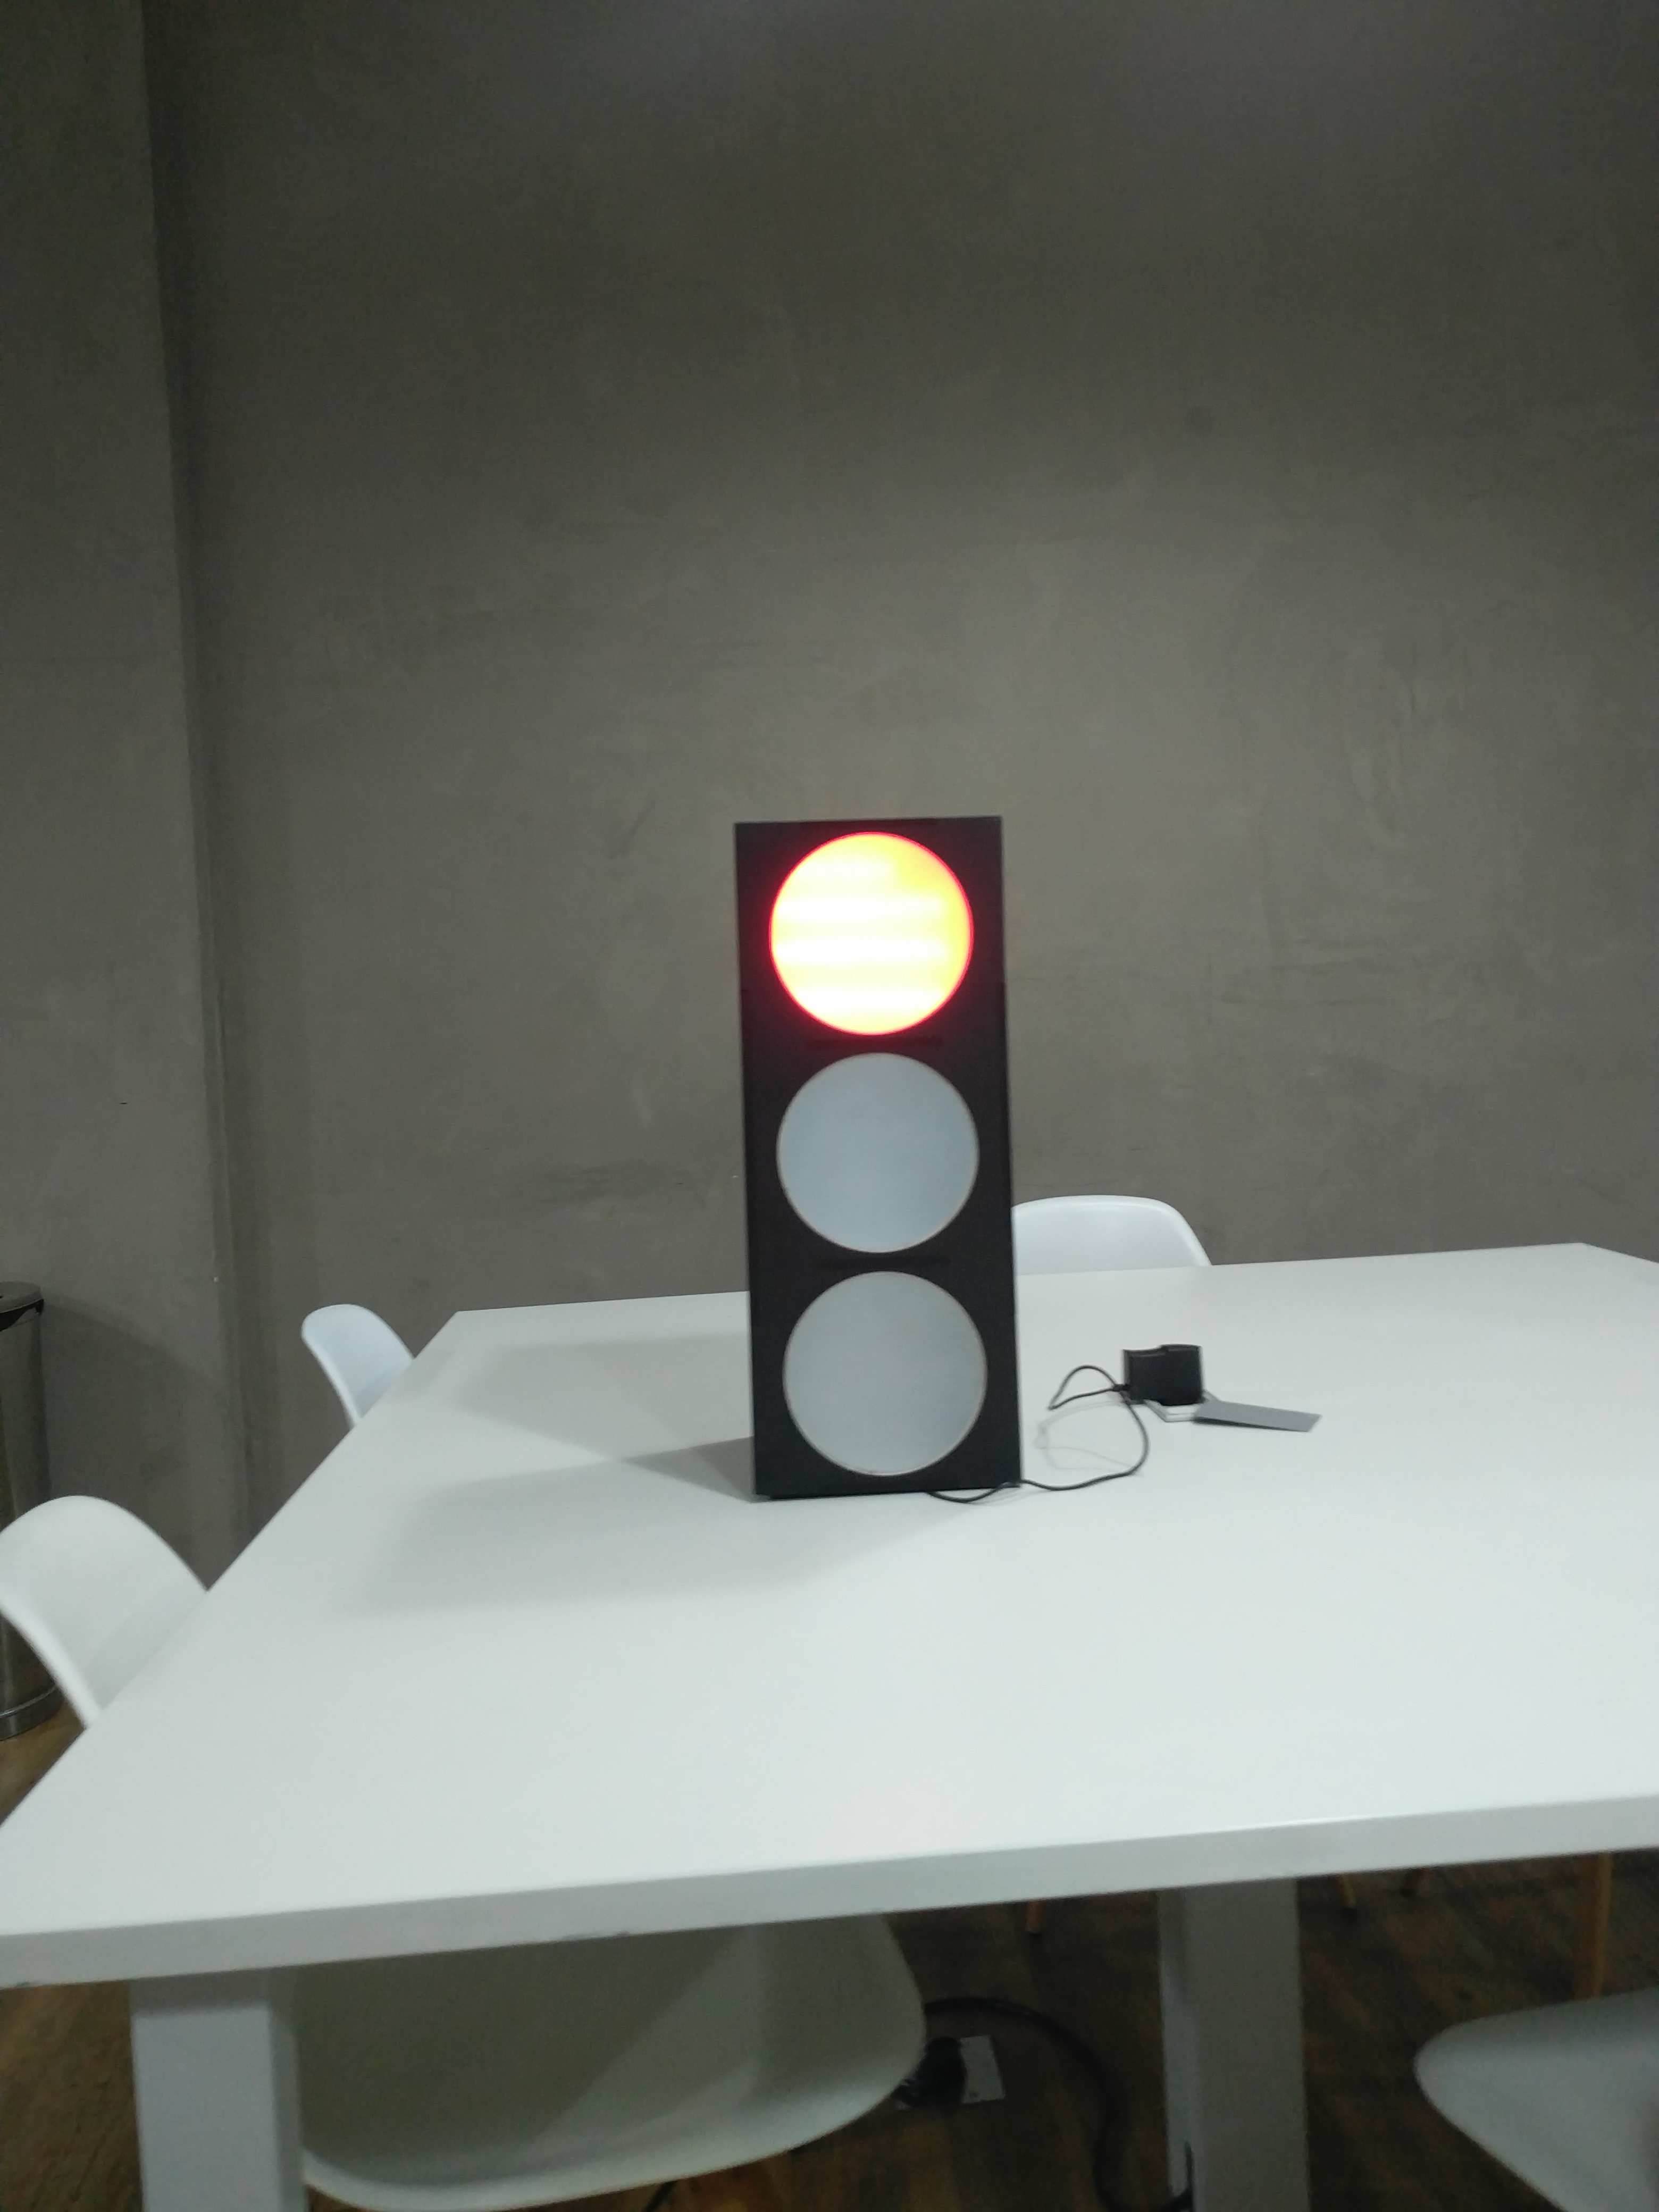stop: (737, 813, 1021, 1512)
